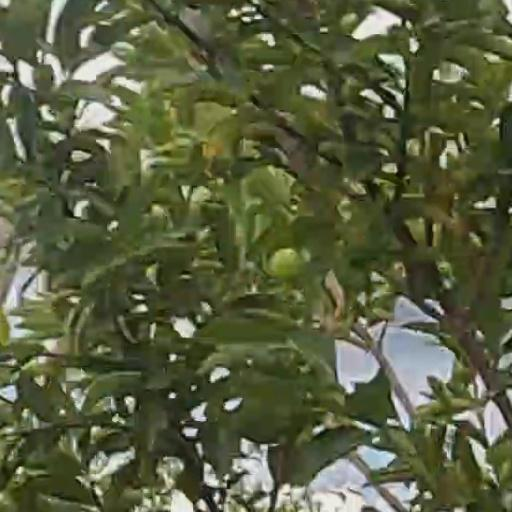acerola_verde: (270, 249, 303, 281)
